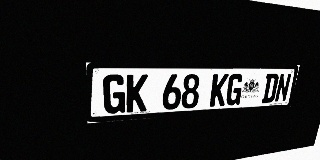6: (162, 74, 183, 110)
8: (181, 74, 201, 109)
D: (261, 73, 279, 103)
G: (103, 74, 126, 114), (225, 74, 244, 106)
K: (126, 74, 148, 113), (209, 74, 229, 107)
N: (274, 73, 292, 102)
